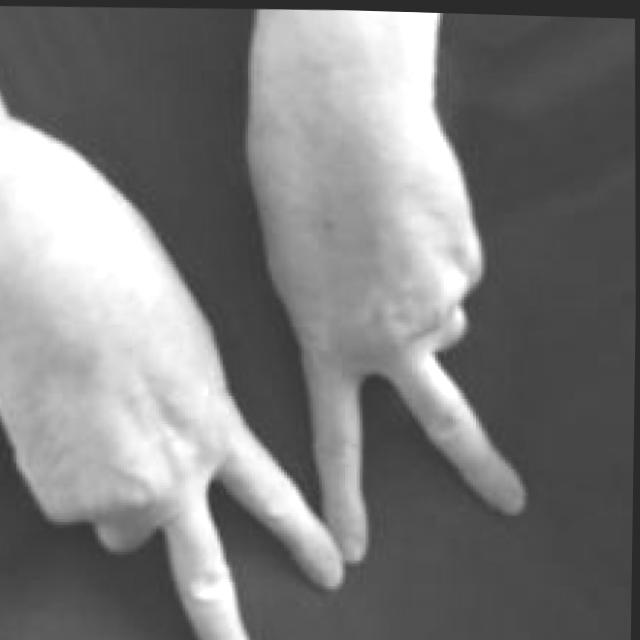M: (0, 106, 538, 640)
